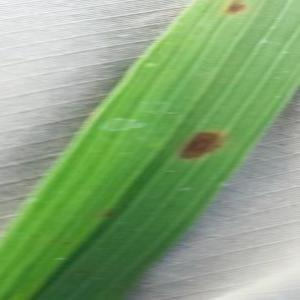0 BrownSpot: (172, 126, 231, 165), (216, 1, 253, 20), (117, 200, 134, 211), (101, 208, 116, 220)
